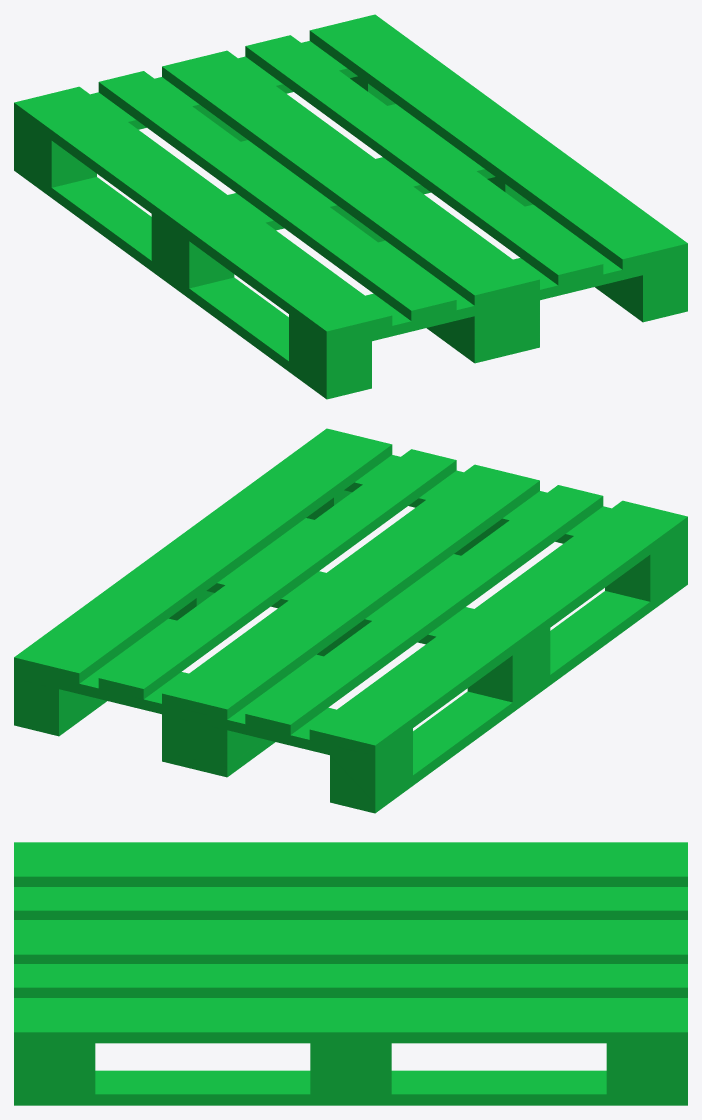
The model's file is Referencia Palete.glb.
3 renders of one model, top to bottom at view 1: azimuth 30°, elevation 25°; view 2: azimuth 150°, elevation 25°; view 3: azimuth 270°, elevation 25°, orthographic. The views are drawn at different scales.
Parts seen in each view (by area): view 1: node_id3; view 2: node_id3; view 3: node_id3.
Boxes of the visible parts, x1,y1,x2,y2 form: node_id3: (14,14,687,399); node_id3: (14,428,687,813); node_id3: (14,842,687,1105).
Size of the model in its own units: 0.3413 by 0.0614 by 0.512.
Materials: 1 (1 with a texture image).
